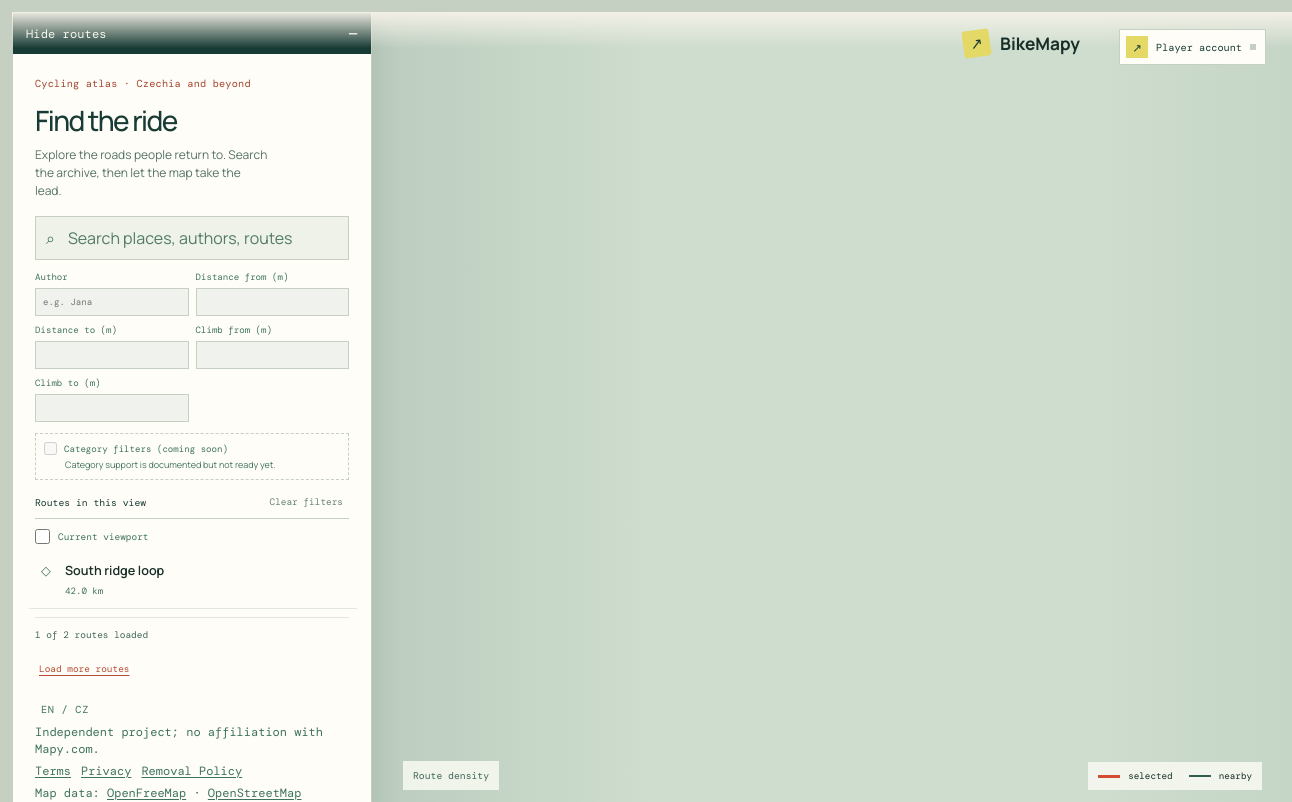
Scenario: BikeMapy route discovery › ignores a stale later-page response after a filter change
Click the button "Load more routes": (84, 669) [35,649,134,689]
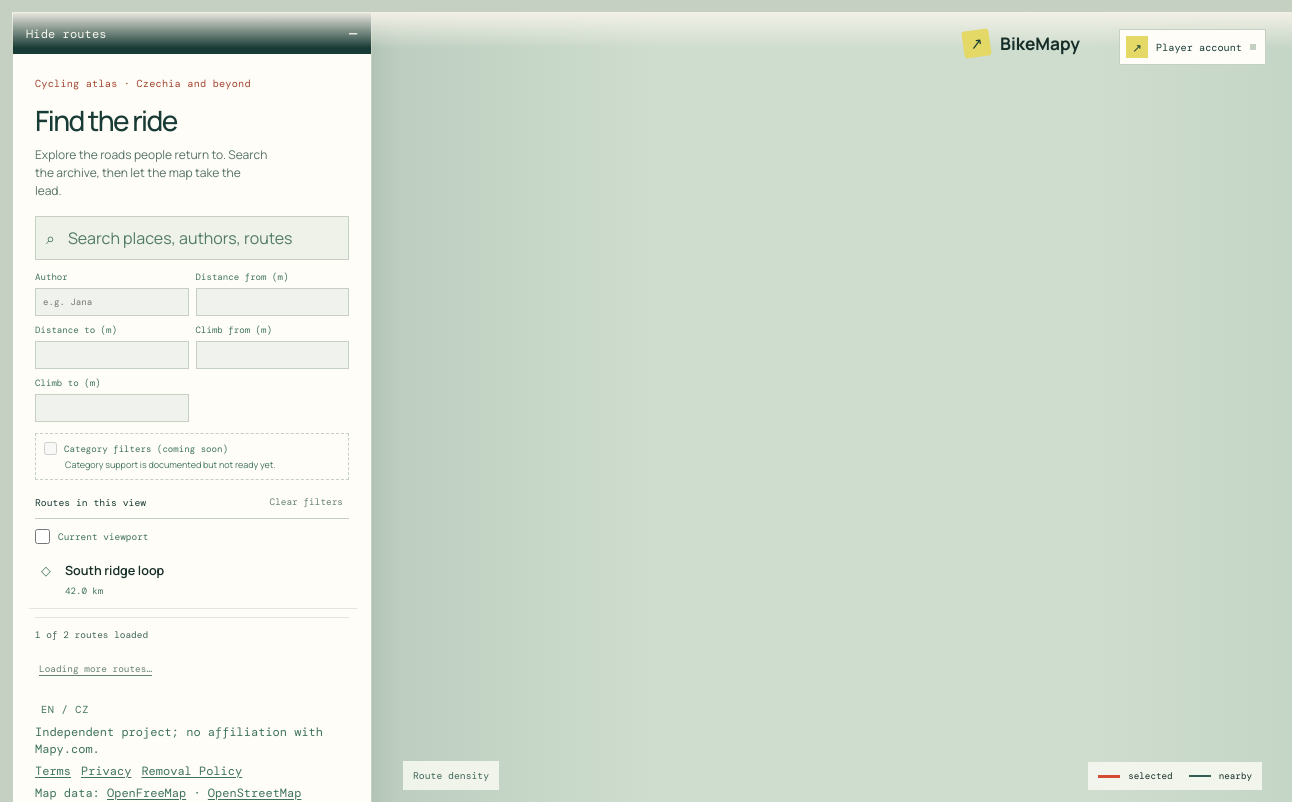
In the search field named "search routes": (202, 238) [66,226,338,250], type "new"
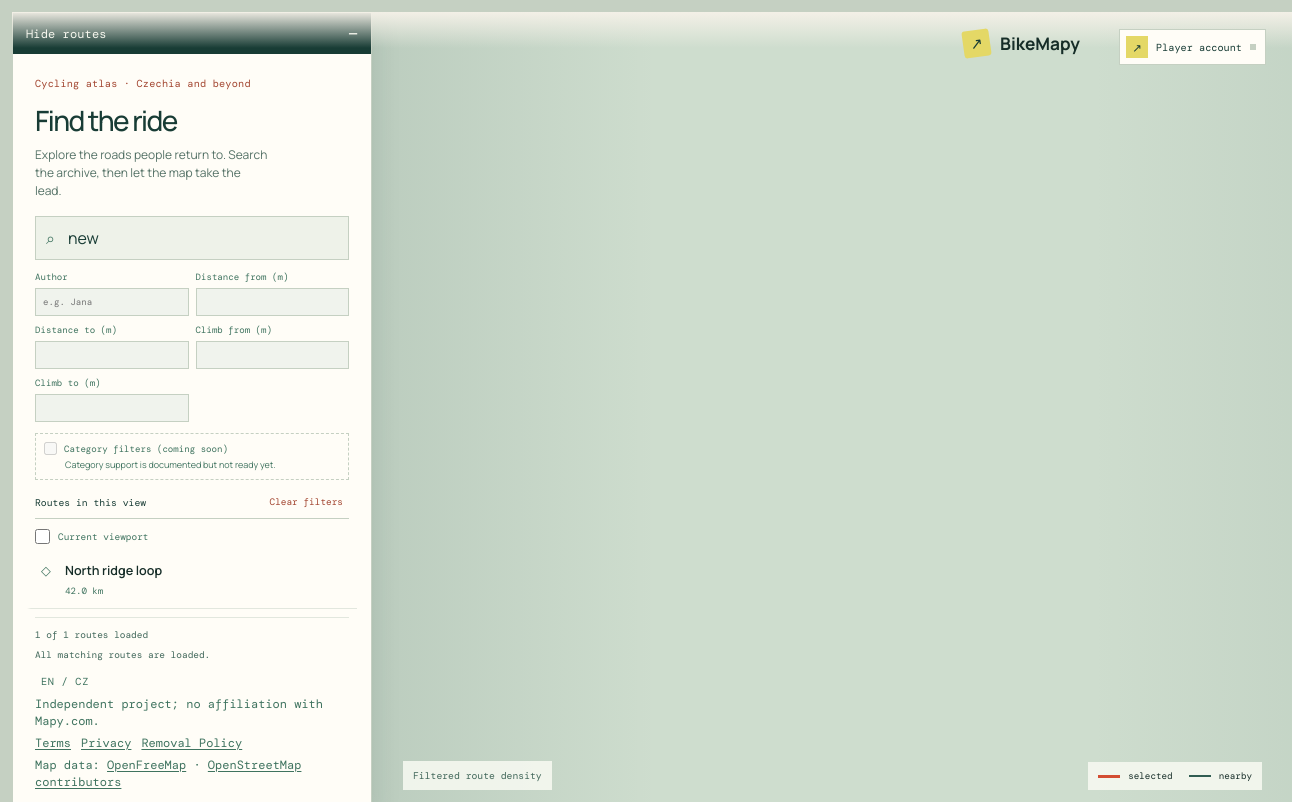
Check: the button "◇ North ridge loop 42.0 km" is shown, box [27,551,357,609]
